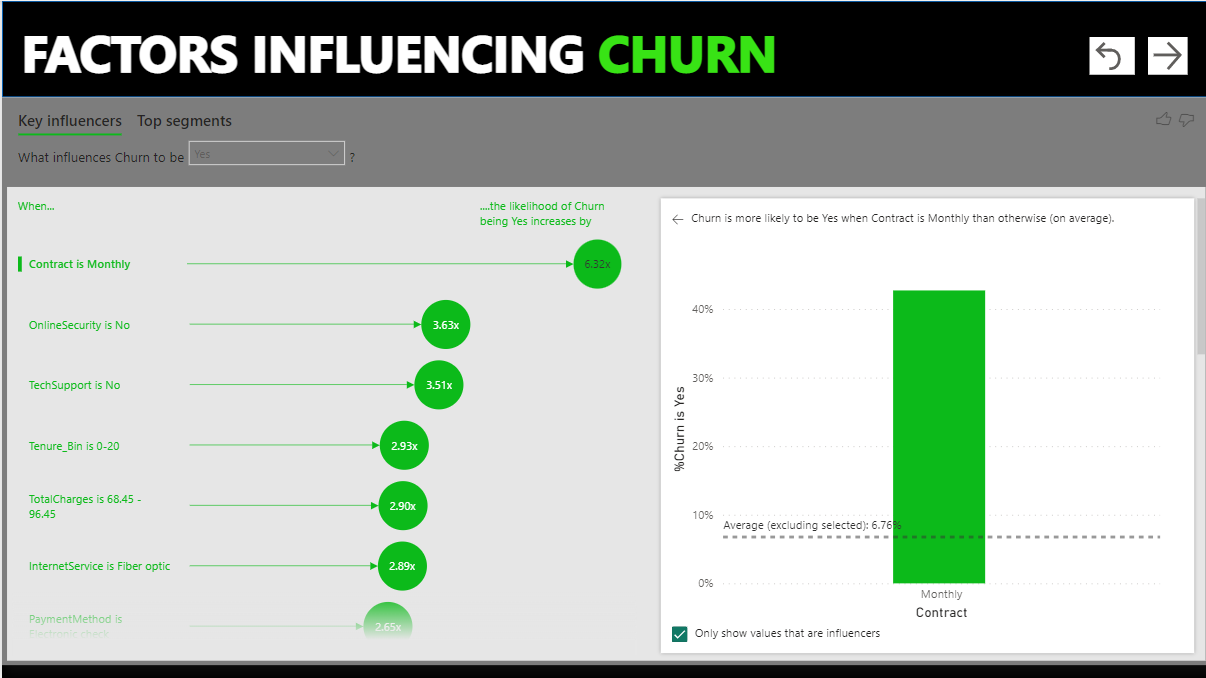

Layout of this report page (visuals, bound fields, positions):
{"tool":"powerbi","page":{"name":"Churn Factors","canvas":[1280,720],"ordinal":4},"visuals":[{"type":"shape","box":[0,0,1280,102],"z":0},{"type":"textbox","box":[16,12,946,90],"z":1000},{"type":"actionButton","box":[1214,38,42,40],"z":2000},{"type":"actionButton","box":[1152,38,48,40],"z":3000},{"type":"keyDriversVisual","fields":{"Target":["Telco-Churn-Analysis.Churn"],"ExplainBy":["Telco-Churn-Analysis.Contract","Telco-Churn-Analysis.Dependents","Telco-Churn-Analysis.DeviceProtection","Telco-Churn-Analysis.gender","Telco-Churn-Analysis.InternetService","Sum(Telco-Churn-Analysis.MonthlyCharges)","Telco-Churn-Analysis.MultipleLines","Telco-Churn-Analysis.OnlineBackup","Telco-Churn-Analysis.OnlineSecurity","Telco-Churn-Analysis.PaperlessBilling","Telco-Churn-Analysis.Partner","Telco-Churn-Analysis.PaymentMethod"]},"box":[0,102,1280,602],"z":4000}]}

Visuals, with their boxes in screenshot pixels (x1, y1, x2, y2), scaled from the page's 1280x720 canvas onto the 1206x678 screenshot:
shape: l=0, t=0, r=1205, b=96
textbox: l=15, t=11, r=906, b=96
actionButton: l=1144, t=36, r=1183, b=73
actionButton: l=1085, t=36, r=1131, b=73
keyDriversVisual - Telco-Churn-Analysis.Churn x Telco-Churn-Analysis.Contract: l=0, t=96, r=1205, b=663
